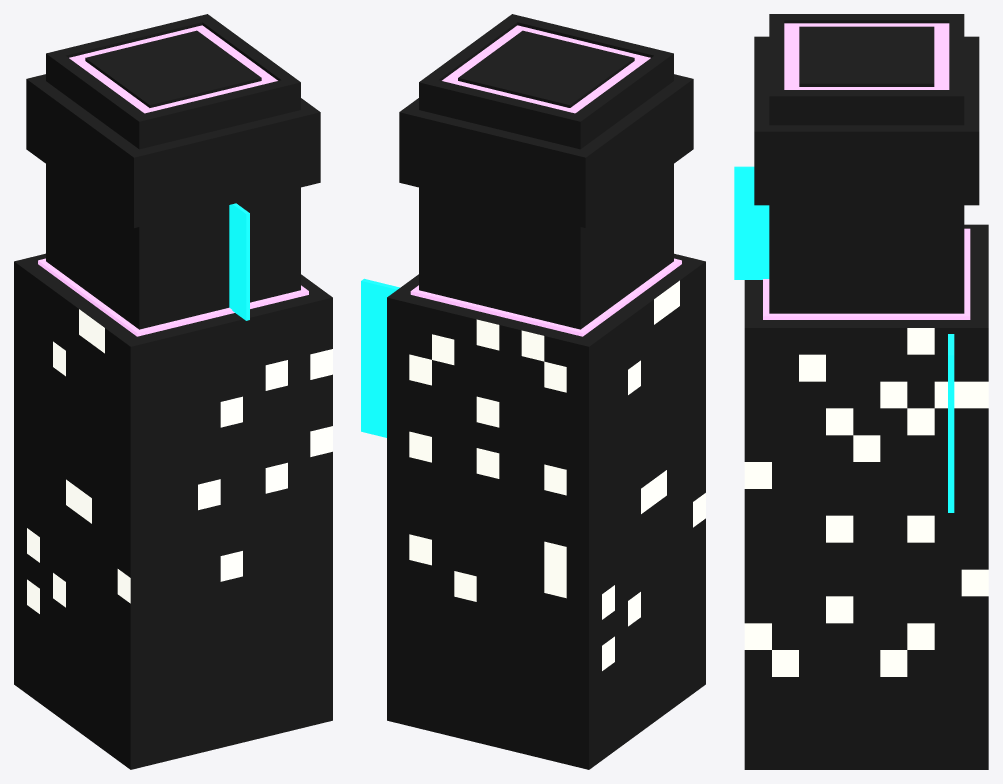
Rendered from Palazzo_04.fbx.
3 views of the same model, side by side, from view 1: azimuth 30°, elevation 25°; view 2: azimuth 150°, elevation 25°; view 3: azimuth 270°, elevation 25° (orthographic). The views are drawn at different scales.
Visible parts, largest first — view 1: 05_Ed.001; view 2: 05_Ed.001; view 3: 05_Ed.001.
Boxes of the visible parts, x1,y1,x2,y2 form: 05_Ed.001: (14,14,332,769); 05_Ed.001: (361,14,705,769); 05_Ed.001: (734,14,988,769).
Bounding box in the file's own units: 8.46 × 7.3 × 21.
